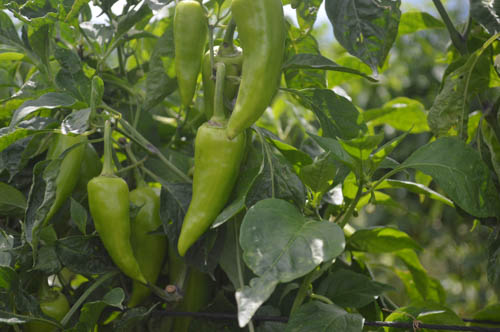ChiliPepper: (175, 122, 244, 259), (225, 2, 286, 142), (91, 178, 144, 282), (123, 190, 163, 310), (172, 4, 207, 108), (166, 253, 206, 324), (49, 130, 87, 204), (203, 46, 242, 114)
